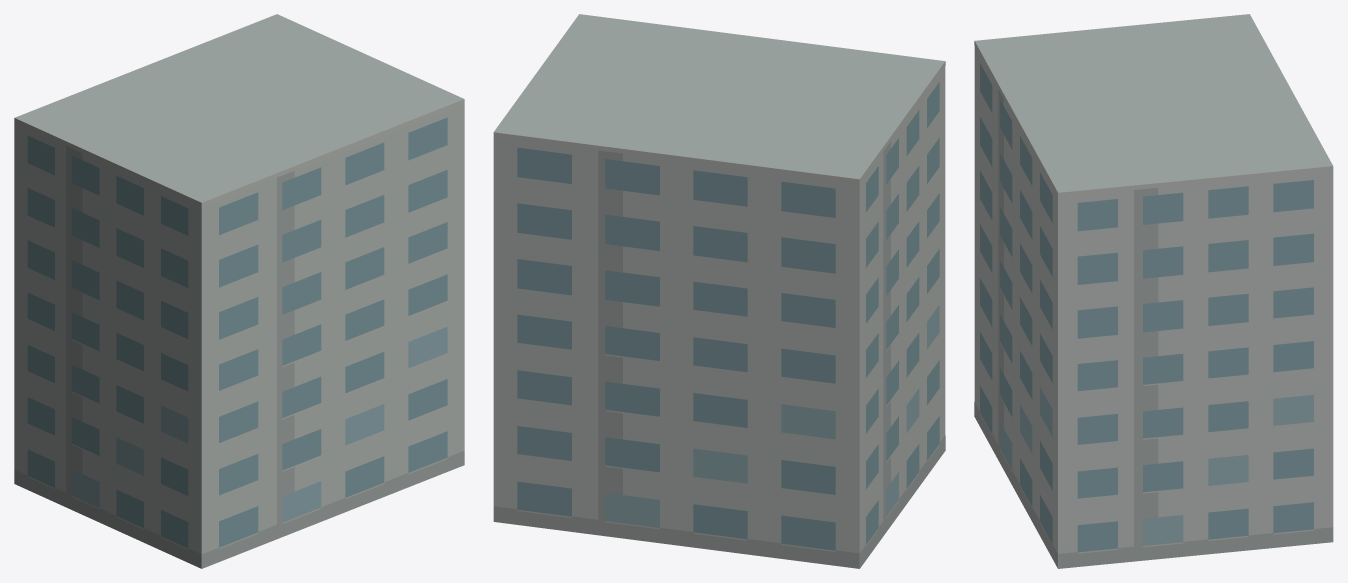
The model's file is survey-upis-33014460.glb.
3 renders of one model, left to right at view 1: azimuth 30°, elevation 25°; view 2: azimuth 150°, elevation 25°; view 3: azimuth 270°, elevation 25°, orthographic. The views are drawn at different scales.
Parts seen in each view (by area): view 1: survey-upis-33014460.tmp; view 2: survey-upis-33014460.tmp; view 3: survey-upis-33014460.tmp.
Boxes of the visible parts, left/top/right/bottom form: survey-upis-33014460.tmp: left=14, top=14, right=464, bottom=568; survey-upis-33014460.tmp: left=493, top=14, right=945, bottom=568; survey-upis-33014460.tmp: left=974, top=14, right=1333, bottom=568.
Bounding box in the file's own units: 20.41 × 20 × 17.31.
